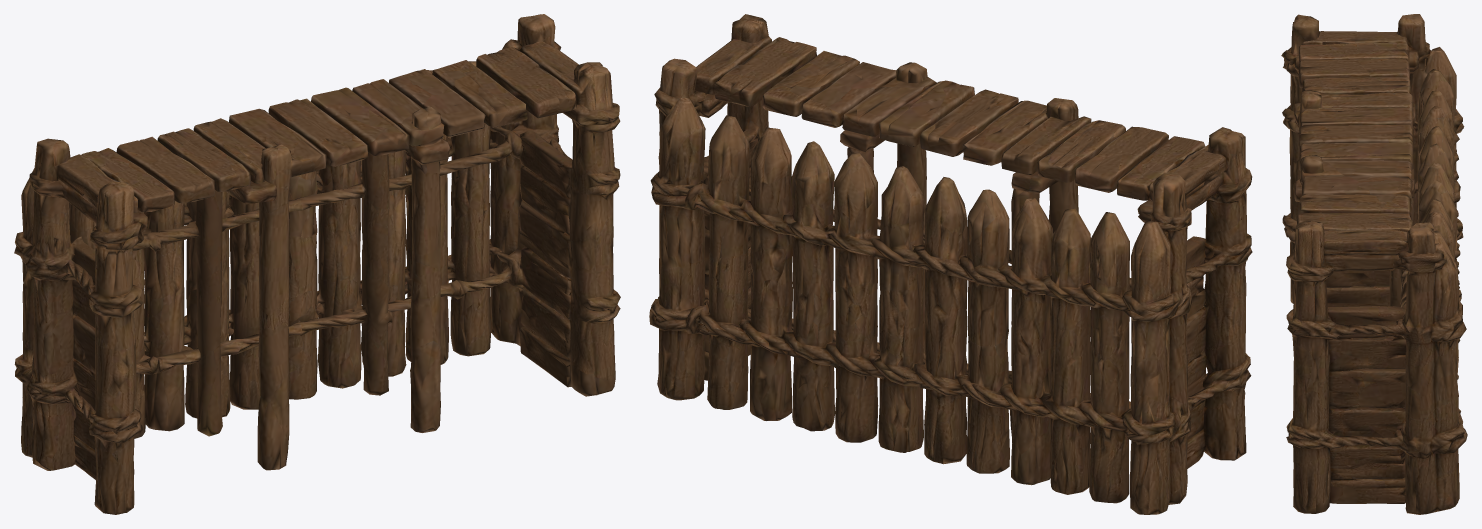
File: wall_small.glb
3 renders of one model, left to right at view 1: azimuth 30°, elevation 25°; view 2: azimuth 150°, elevation 25°; view 3: azimuth 270°, elevation 25°, orthographic. The views are drawn at different scales.
Size of the model in its own units: 1.9 by 1.11 by 0.6607.
Materials: 1 (1 with a texture image).
